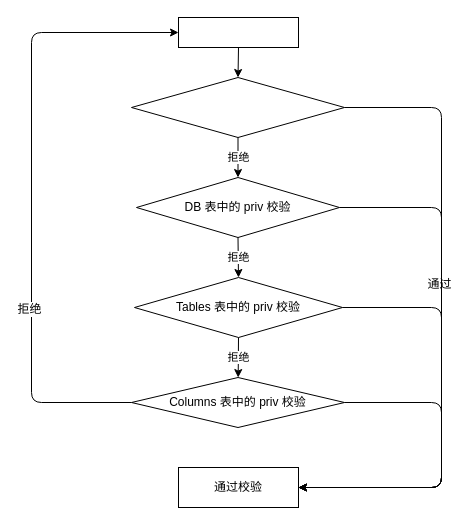
Some shapes in this 468 by 525 pixel diagram are drawn without their labels. Each missing label, with the box of its shape:
User 表中的 priv 校验: (130, 76, 344, 138)
开始用户权限校验: (178, 16, 298, 48)
